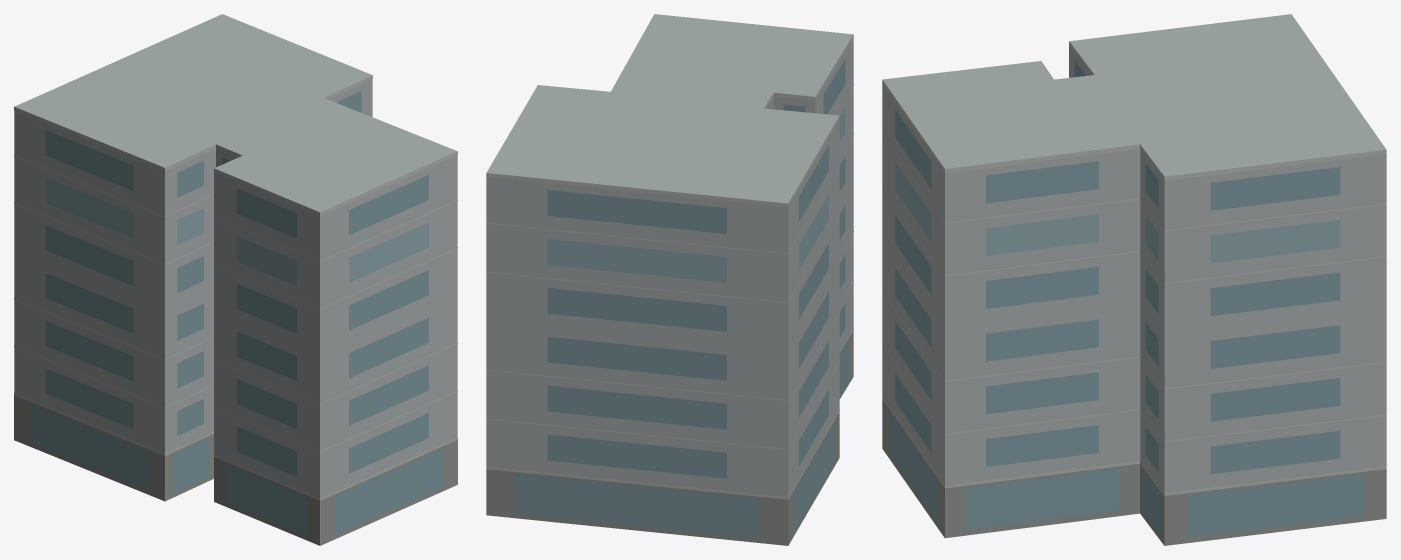
The model's file is survey-upis-32699514.glb.
The picture shows the model from 3 angles, left to right: view 1: azimuth 30°, elevation 25°; view 2: azimuth 150°, elevation 25°; view 3: azimuth 270°, elevation 25°; orthographic projection. The views are drawn at different scales.
Parts seen in each view (by area): view 1: survey-upis-32699514.tmp; view 2: survey-upis-32699514.tmp; view 3: survey-upis-32699514.tmp.
Part boxes in pixels (bbox=[...]): survey-upis-32699514.tmp: bbox=[14, 14, 457, 545]; survey-upis-32699514.tmp: bbox=[486, 14, 853, 545]; survey-upis-32699514.tmp: bbox=[882, 14, 1386, 545].
Bounding box in the file's own units: 19.88 × 21 × 26.02.
